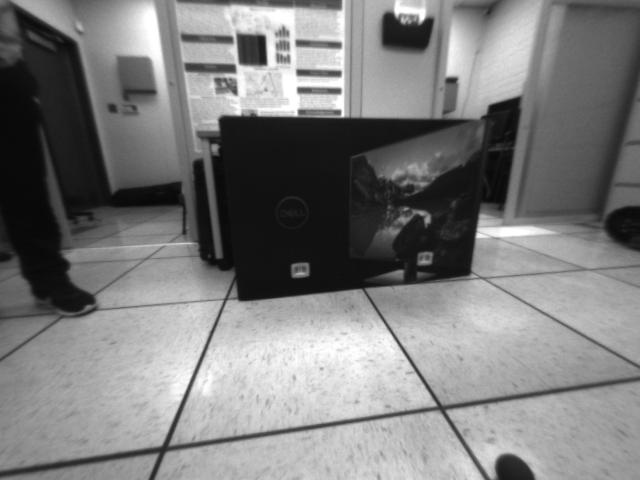dogtoy: (486, 440, 544, 480)
